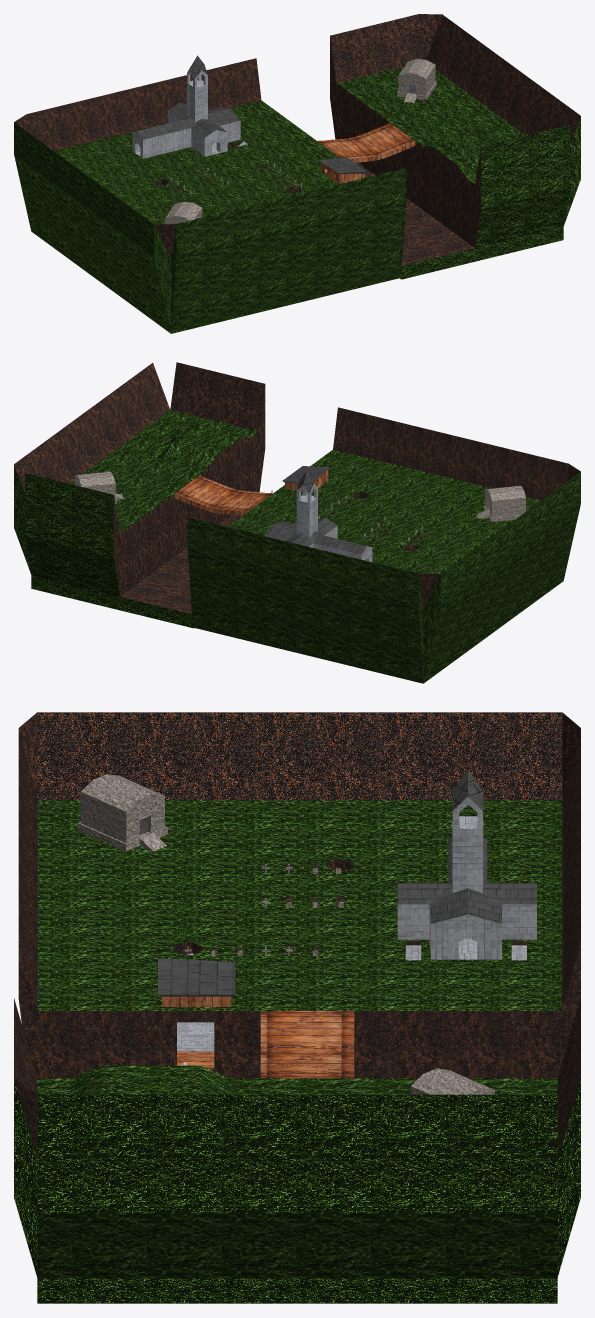
The model's file is SanctuaryDM.glb.
The picture shows the model from 3 angles, top to bottom: view 1: azimuth 30°, elevation 25°; view 2: azimuth 150°, elevation 25°; view 3: azimuth 270°, elevation 25°; orthographic projection. The views are drawn at different scales.
Visible parts, largest first — view 1: Cube, Cube.020, Cube.001, Cube.018, Cube.021, Cube.019, Cube.017; view 2: Cube, Cube.020, Cube.001, Cube.018, Cube.017, Cube.021, Cube.019; view 3: Cube, Cube.020, Cube.001, Cube.018, Cube.017, Cube.019, Cube.021.
Boxes of the visible parts, left/top/right/bottom form: Cube: left=14, top=58, right=406, bottom=333; Cube.020: left=330, top=14, right=580, bottom=279; Cube.001: left=132, top=55, right=240, bottom=158; Cube.018: left=317, top=123, right=415, bottom=162; Cube.021: left=397, top=59, right=436, bottom=102; Cube.019: left=318, top=157, right=366, bottom=184; Cube.017: left=164, top=201, right=202, bottom=224; Cube: left=187, top=407, right=580, bottom=683; Cube.020: left=14, top=362, right=265, bottom=628; Cube.001: left=264, top=470, right=372, bottom=561; Cube.018: left=174, top=475, right=272, bottom=515; Cube.017: left=476, top=485, right=525, bottom=521; Cube.021: left=74, top=471, right=123, bottom=504; Cube.019: left=282, top=466, right=330, bottom=492; Cube: left=18, top=712, right=580, bottom=1078; Cube.020: left=14, top=998, right=580, bottom=1303; Cube.001: left=397, top=770, right=536, bottom=959; Cube.018: left=260, top=1011, right=354, bottom=1078; Cube.017: left=78, top=774, right=167, bottom=851; Cube.019: left=158, top=958, right=235, bottom=1006; Cube.021: left=410, top=1068, right=494, bottom=1094.
Size of the model in its own units: 197 by 71.58 by 121.
Materials: 6 (6 with a texture image).
